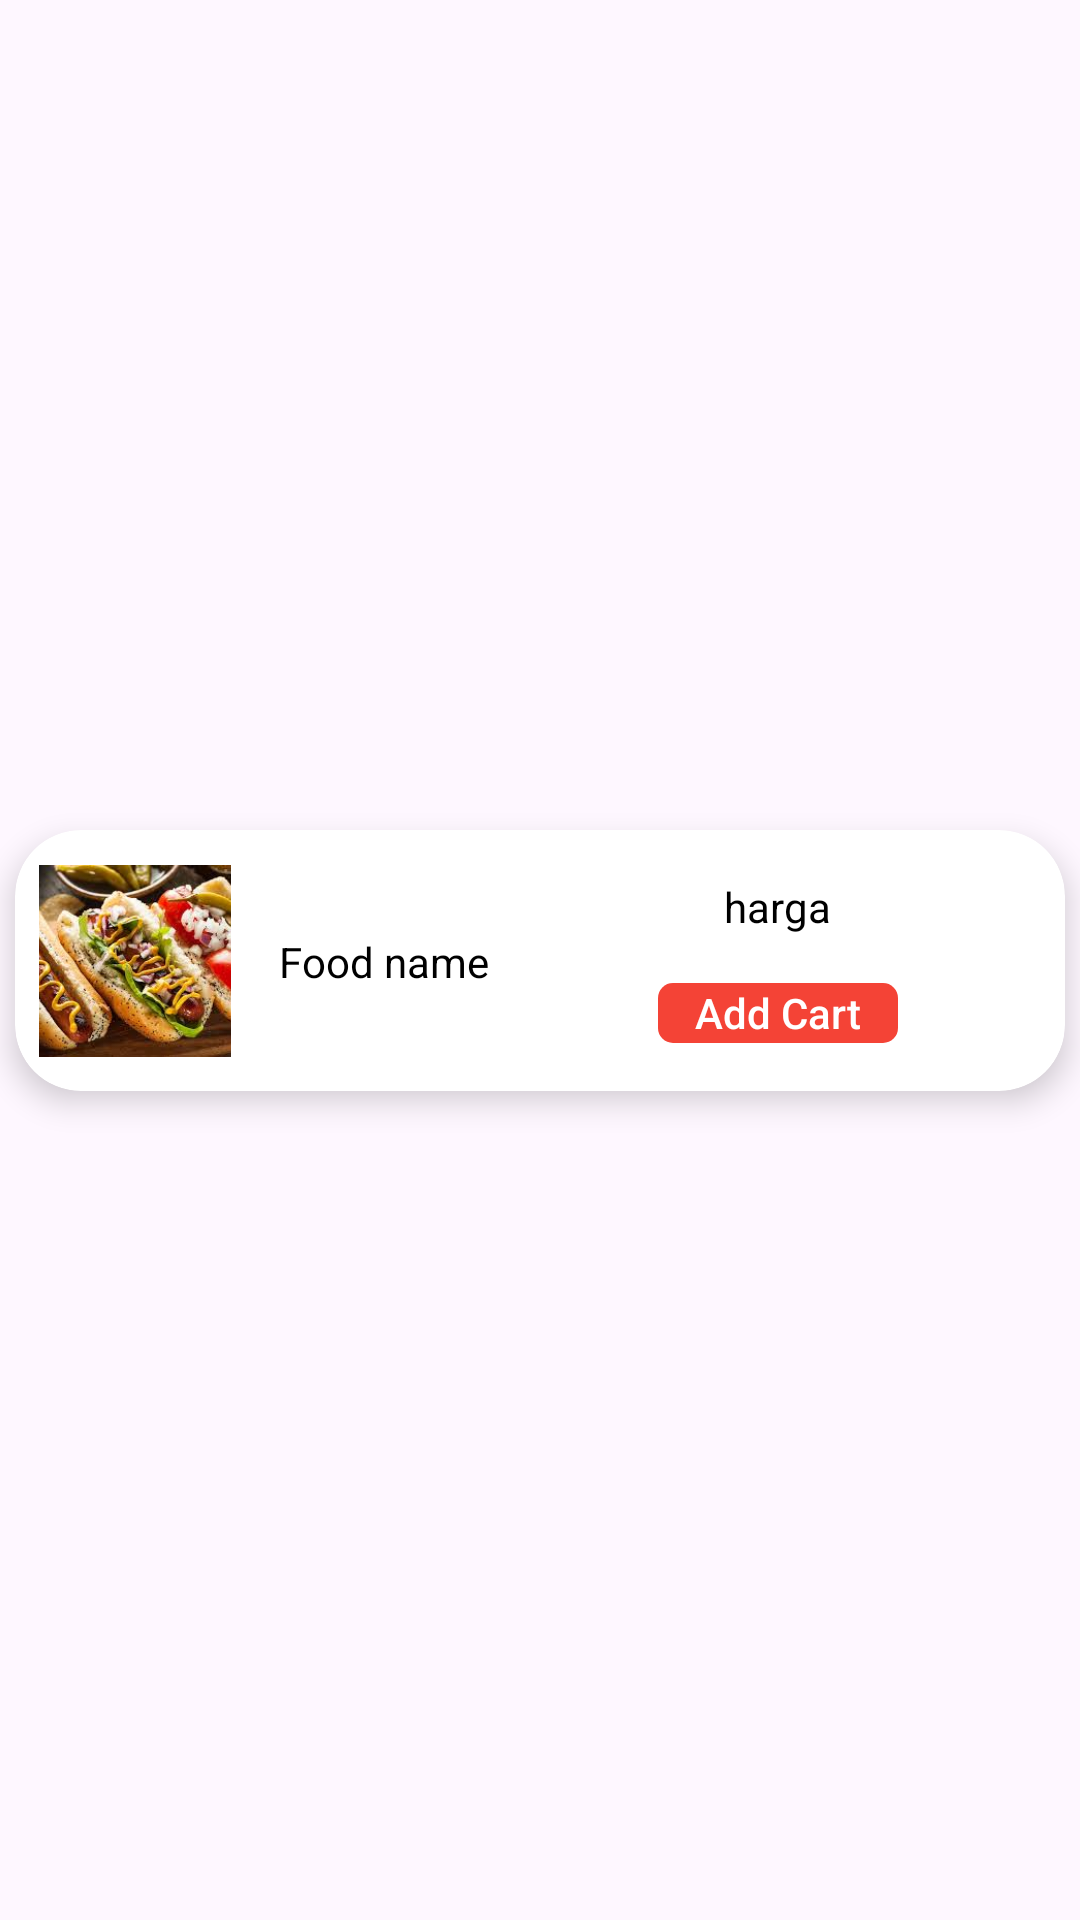

Icon click points for this 1080*1920 phone screenshot, format (x=x, y=y):
produk: (x=135, y=961)
